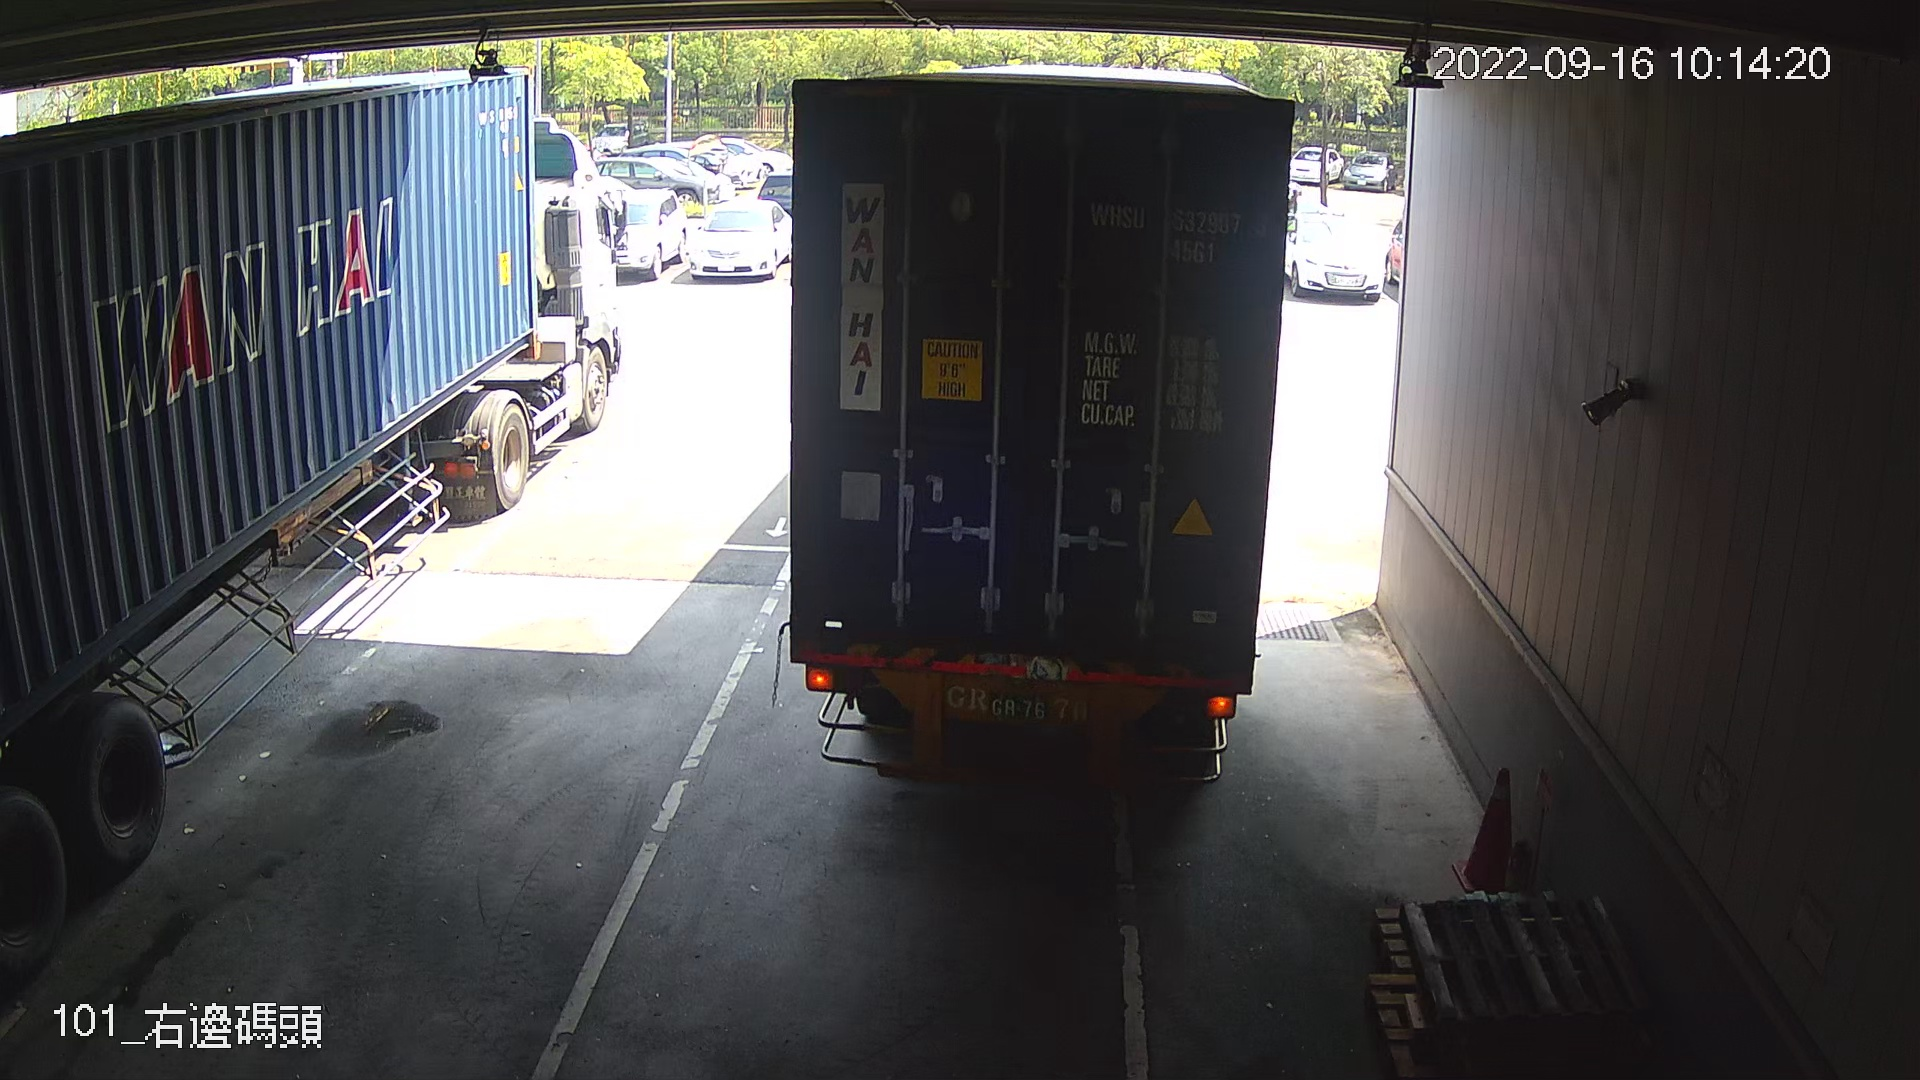container: (1081, 194, 1265, 276)
